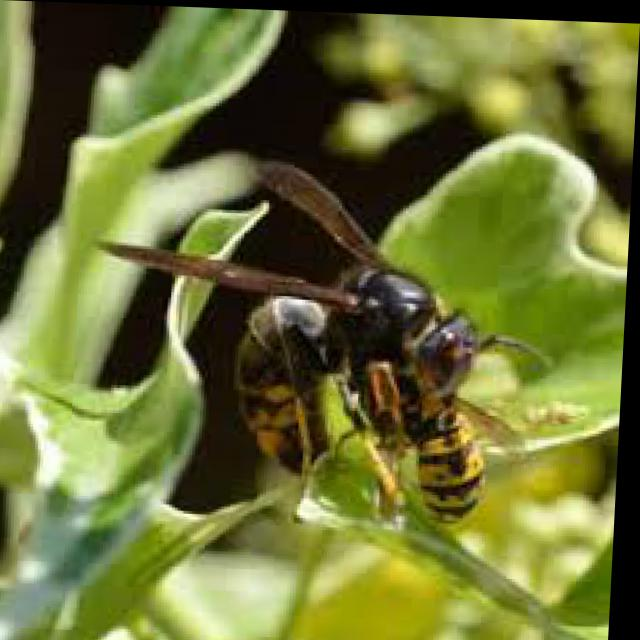Vespa Velutina: (74, 150, 564, 531)
